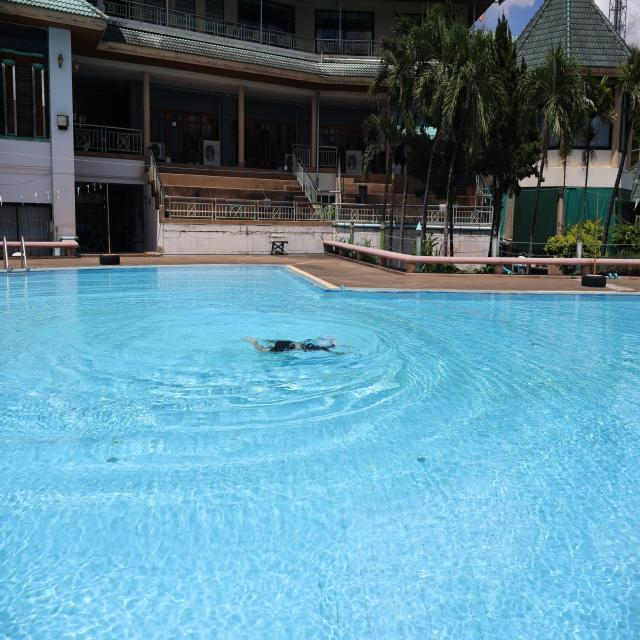Swimming: (251, 319, 341, 370)
